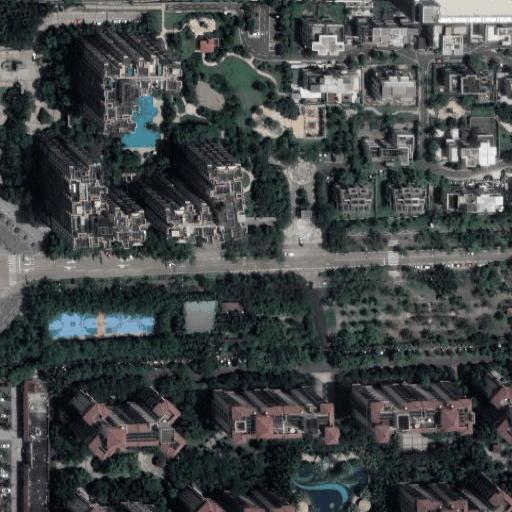building: (135, 138, 219, 217), (66, 379, 169, 441), (36, 133, 112, 214), (75, 30, 152, 102), (395, 467, 492, 512), (174, 479, 277, 512), (213, 385, 313, 418), (350, 381, 446, 413), (468, 363, 512, 432), (20, 382, 41, 512), (63, 487, 157, 512), (177, 293, 214, 330), (442, 129, 485, 159), (359, 130, 405, 156), (302, 66, 354, 85), (439, 185, 497, 201), (371, 65, 408, 90), (356, 18, 410, 34), (428, 24, 464, 46), (332, 182, 363, 205), (383, 182, 413, 205), (301, 16, 332, 38), (443, 66, 480, 83), (479, 23, 512, 38), (200, 40, 214, 52), (291, 70, 302, 85), (504, 76, 512, 92), (420, 37, 428, 50)
